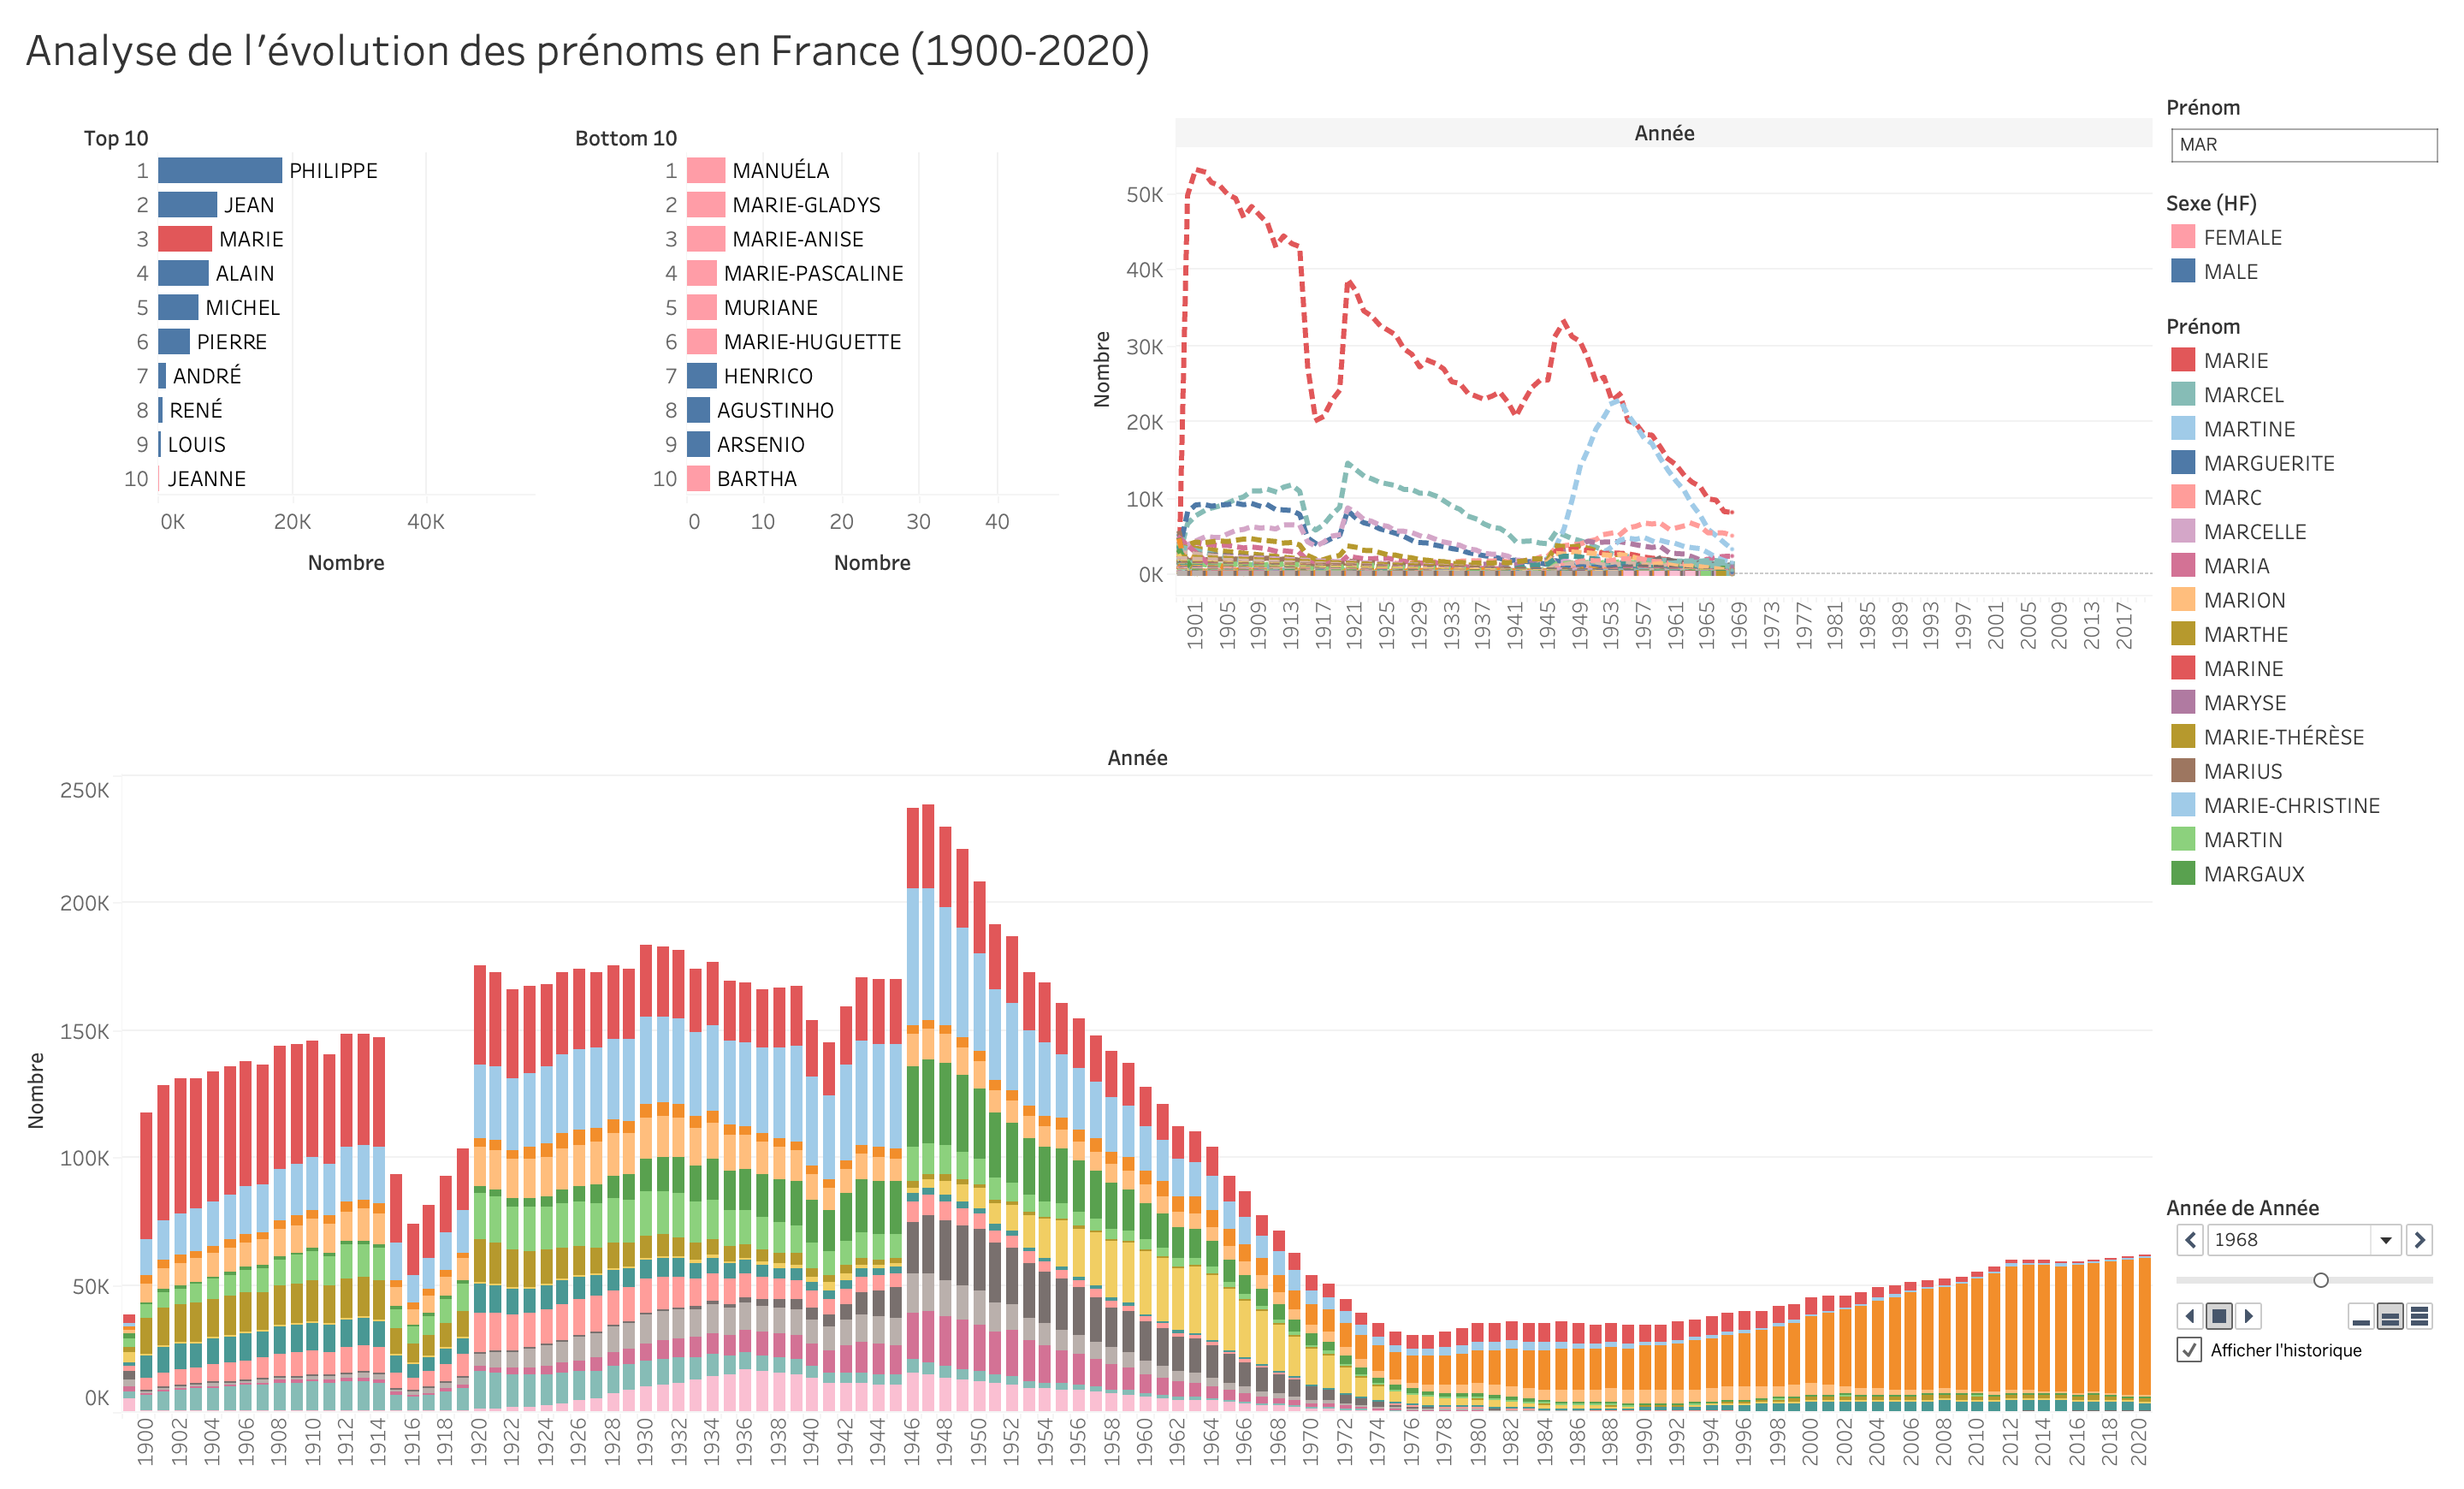

The page's visual inventory and layout, read from the dashboard file:
{"tool":"tableau","page":{"name":"Dashboard","canvas":[1000,1000],"units":"permille","ordinal":0},"visuals":[{"type":"title","box":[5.6,9.2,988.9,48.3]},{"type":"worksheet","title":"BarChartRace","mark":"Bar","cols":["nombre"],"box":[5.6,57.5,214.9,384.5]},{"type":"worksheet","title":"Bottom10","mark":"Bar","cols":["nombre"],"box":[220.5,57.5,212.8,384.5]},{"type":"worksheet","title":"Top 10","mark":"Circle","rows":["nombre"],"cols":["annais"],"box":[433.3,57.5,443.1,384.5]},{"type":"parameter","param":"[Parameters].[Paramètre 3]","box":[876.4,57.5,118.1,64.4]},{"type":"legend","title":"Bottom10","param":"[federated.19kj0d41120fb116ftc9w1m4p7ka].[attr:Calculation_1866460616144150543:n","box":[876.4,121.9,118.1,82.8]},{"type":"legend","title":"Top 10","param":"[federated.19kj0d41120fb116ftc9w1m4p7ka].[none:preusuel:nk]","box":[876.4,204.6,118.1,400]},{"type":"worksheet","title":"StackedHist","mark":"Bar","rows":["nombre"],"cols":["annais"],"box":[5.6,442,870.8,548.8]},{"type":"currpage","title":"BarChartRace","box":[876.4,796.2,118.1,148.3]}]}

Visuals, with their boxes on the dashboard's canvas, which has no fixed pixel size, in thousandths of its width and height (x1, y1, x2, y2). These are canvas units, not pixel positions in the 2464x1489 screenshot, which may show the page scaled, cropped or inside an application window:
title: box(6, 9, 994, 58)
"BarChartRace" worksheet (Bar marks): box(6, 58, 220, 442)
"Bottom10" worksheet (Bar marks): box(220, 58, 433, 442)
"Top 10" worksheet (Circle marks): box(433, 58, 876, 442)
parameter: box(876, 58, 994, 122)
"Bottom10" legend: box(876, 122, 994, 205)
"Top 10" legend: box(876, 205, 994, 605)
"StackedHist" worksheet (Bar marks): box(6, 442, 876, 991)
"BarChartRace" currpage: box(876, 796, 994, 944)
